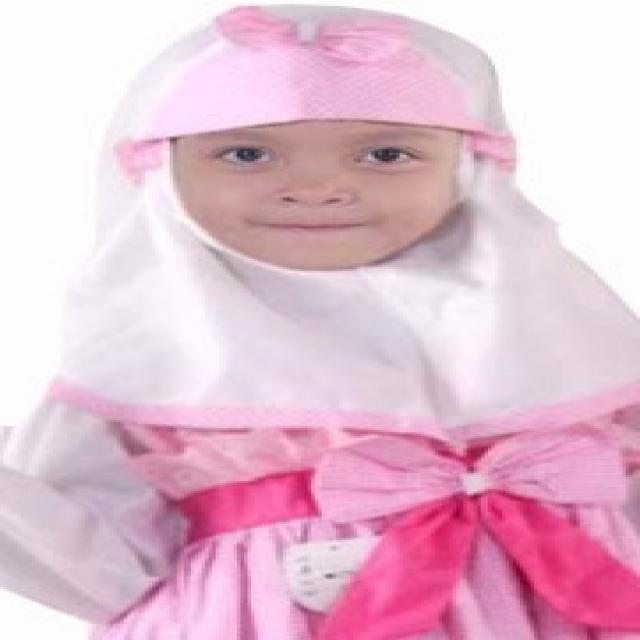head: (129, 6, 513, 278)
